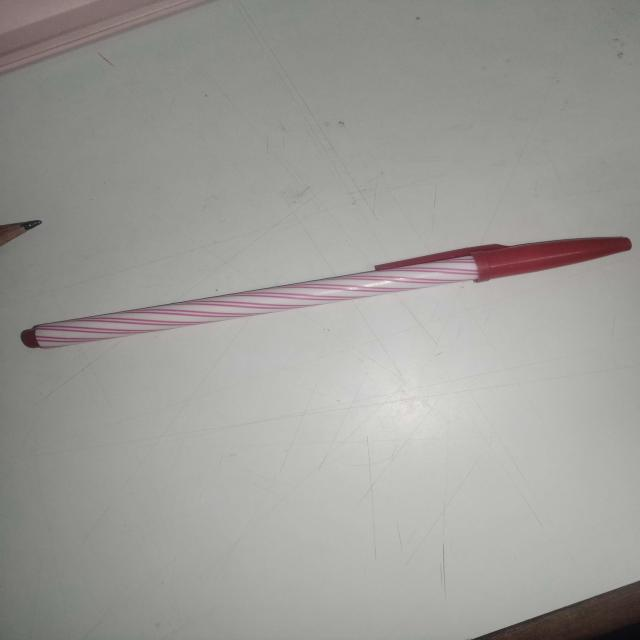pen_pencil: (57, 216, 640, 414)
